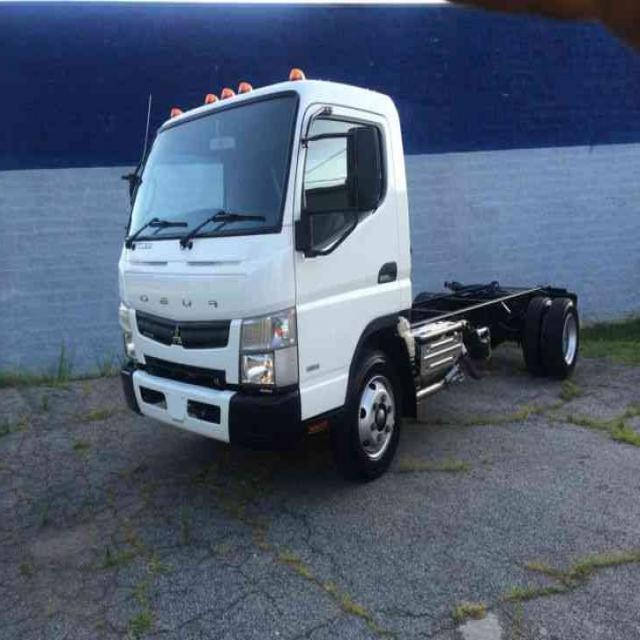Truck: (118, 71, 583, 476)
